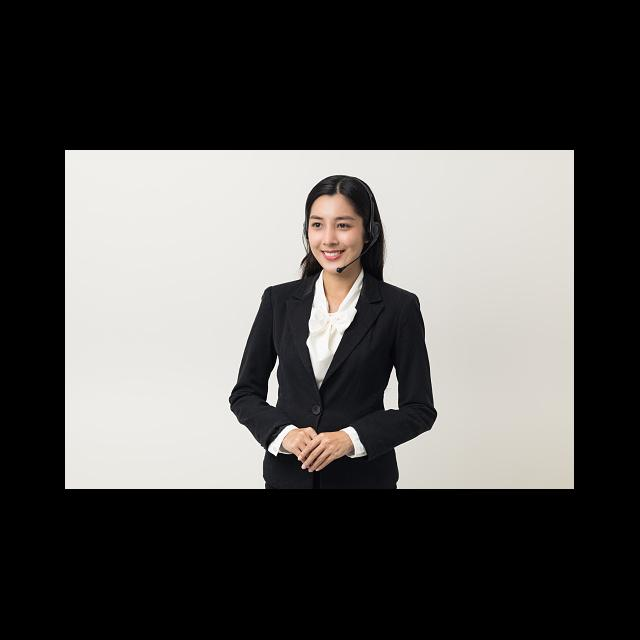female: (255, 174, 391, 281)
